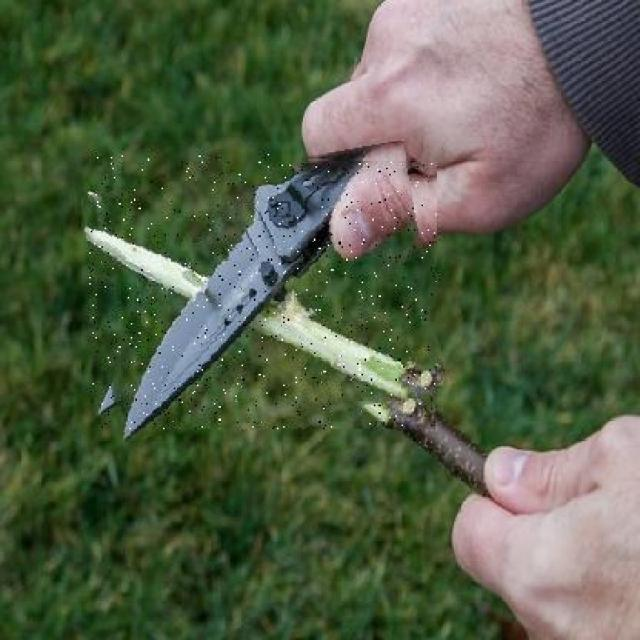knife: (89, 154, 437, 429)
